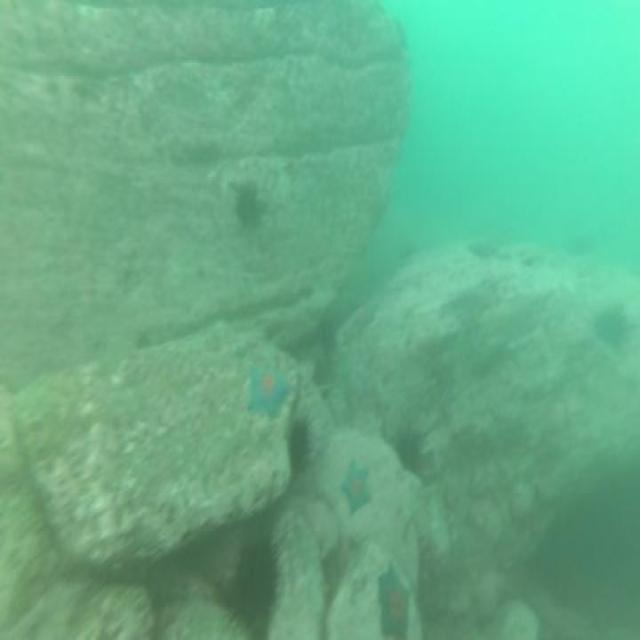echinus: (226, 532, 284, 637), (592, 307, 627, 354), (288, 414, 313, 479), (233, 186, 264, 234), (392, 428, 422, 477)
starfish: (373, 559, 415, 640), (245, 357, 292, 424), (340, 299, 380, 352), (340, 460, 374, 515)
